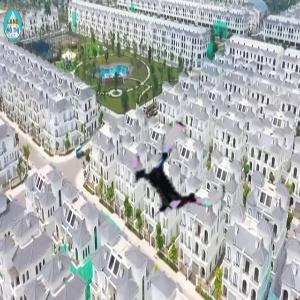drone: (129, 128, 230, 229)
